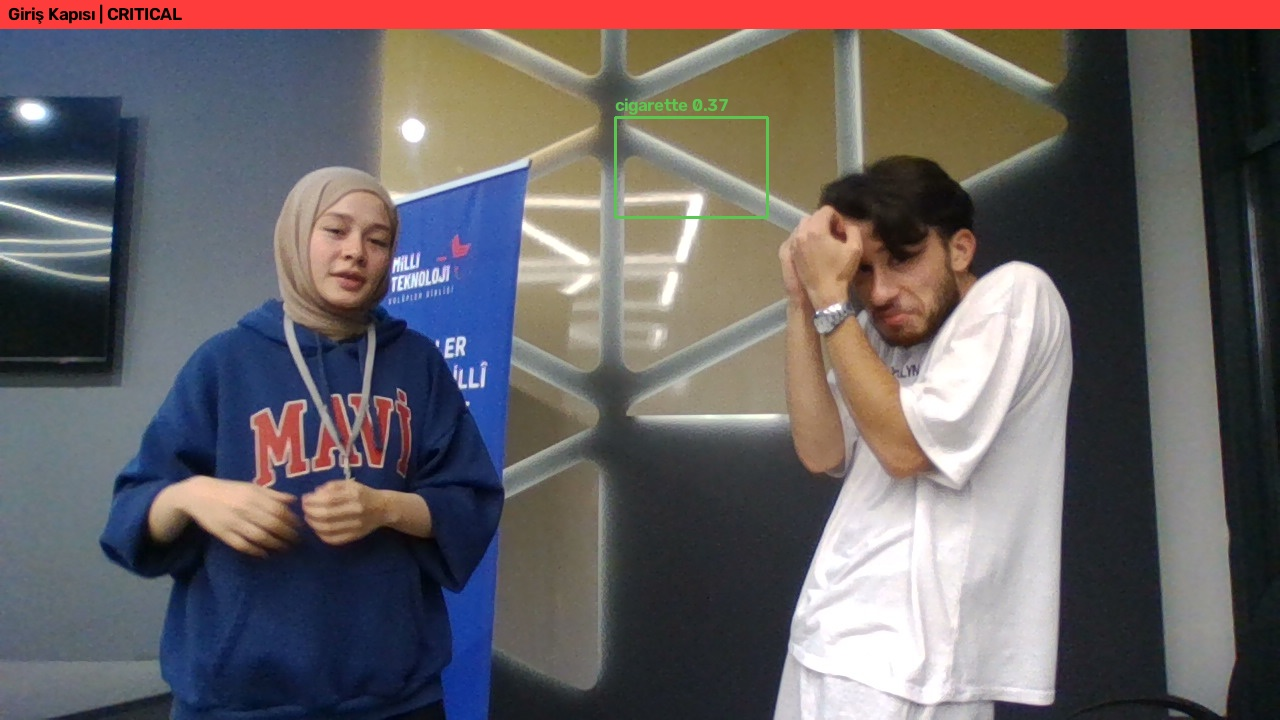weapon: (712, 367, 878, 532)
